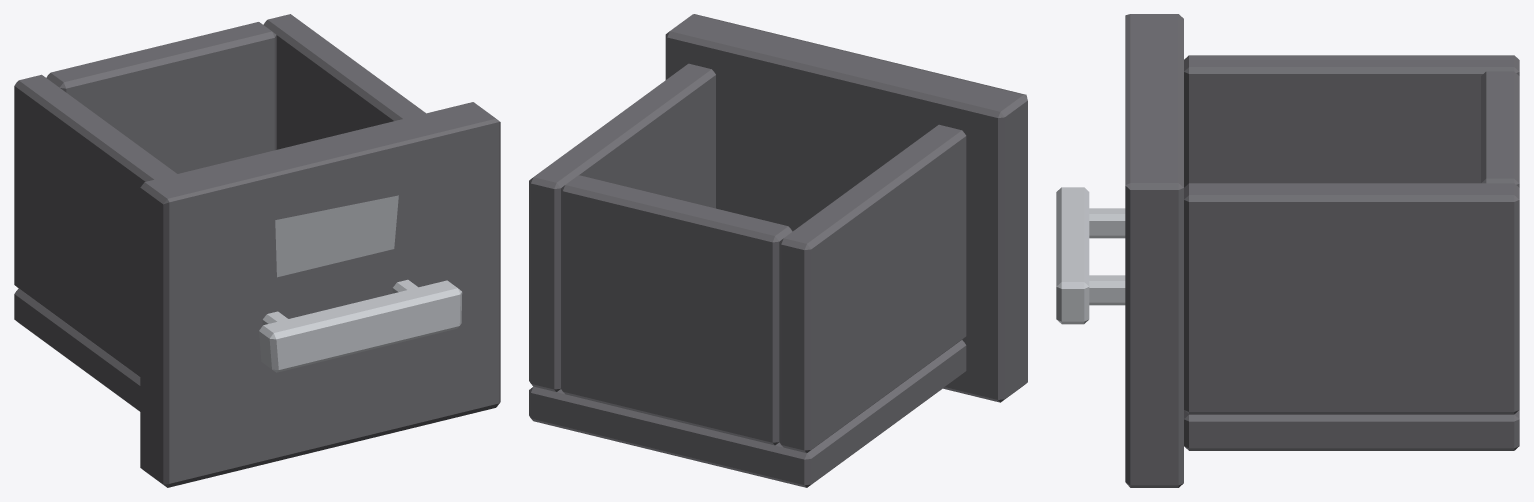
Rendered from Shelving_4_box_7.fbx.
The picture shows the model from 3 angles, left to right: view 1: azimuth 30°, elevation 25°; view 2: azimuth 150°, elevation 25°; view 3: azimuth 270°, elevation 25°; orthographic projection. The views are drawn at different scales.
Parts seen in each view (by area): view 1: Shelving_4_box_7; view 2: Shelving_4_box_7; view 3: Shelving_4_box_7.
Part boxes in pixels (x1,y1,x2,y2): Shelving_4_box_7: (14, 14, 500, 487); Shelving_4_box_7: (529, 14, 1027, 487); Shelving_4_box_7: (1056, 14, 1519, 487).
Bounding box in the file's own units: 0.3336 × 0.2733 × 0.3762.
